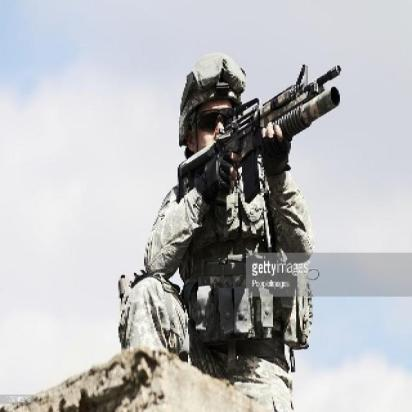Gun: (172, 58, 352, 230)
